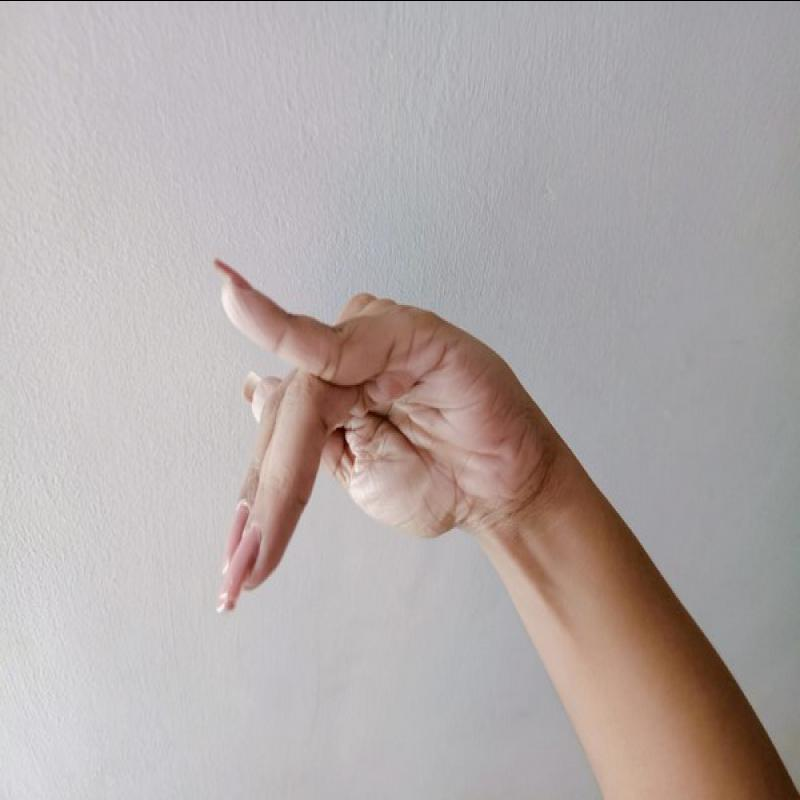Kartharee Mukham: (161, 248, 560, 635)
